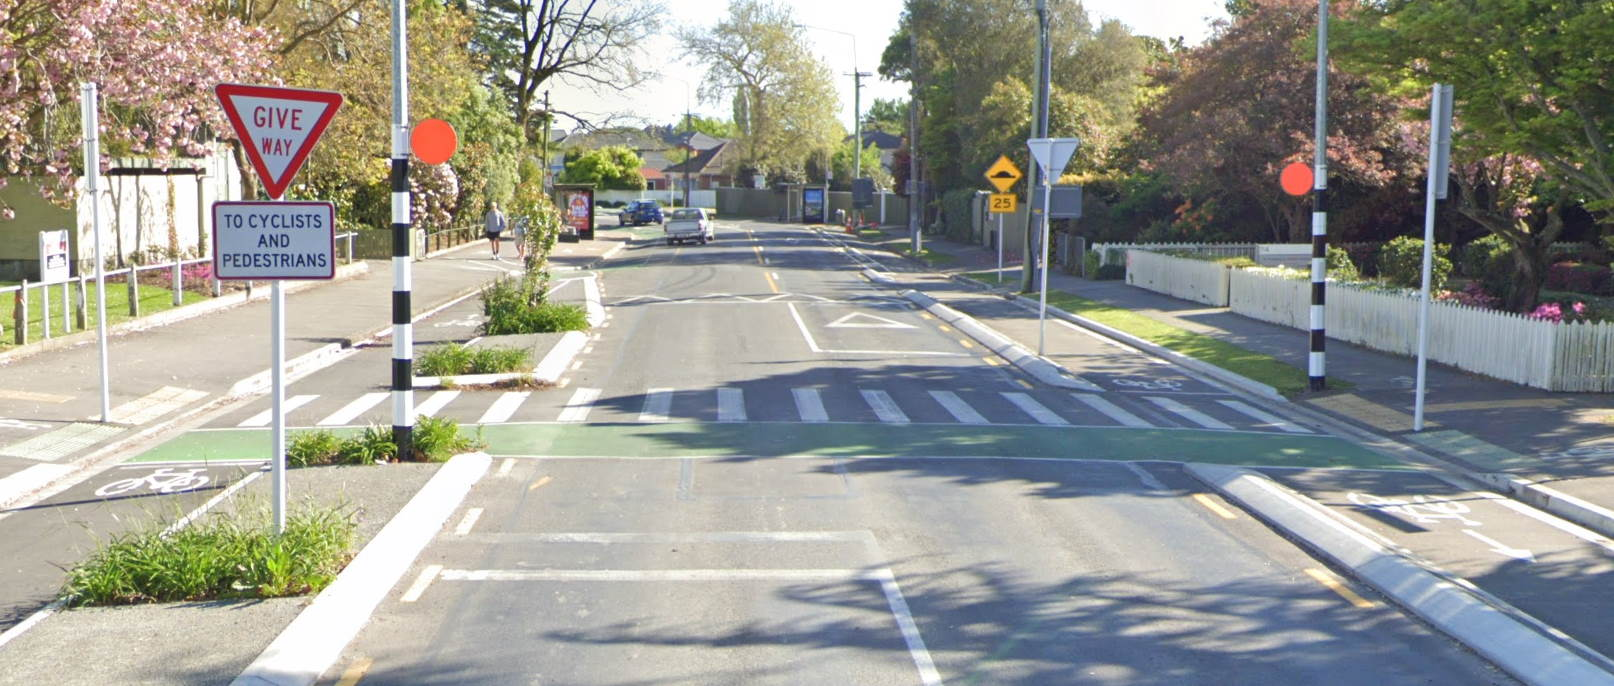car: (665, 208, 714, 246), (614, 200, 662, 226)
pedestrian lane: (231, 388, 1314, 435)
person: (482, 203, 503, 255)
pole: (1418, 82, 1444, 430), (389, 19, 408, 460), (1312, 31, 1323, 387)
